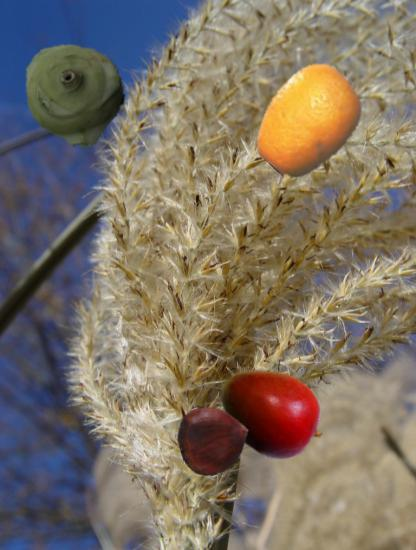Chestnut: (179, 404, 250, 475)
Kohlrabi: (20, 44, 127, 151)
Kumquats: (250, 63, 367, 180)
Mango: (215, 355, 328, 468)
